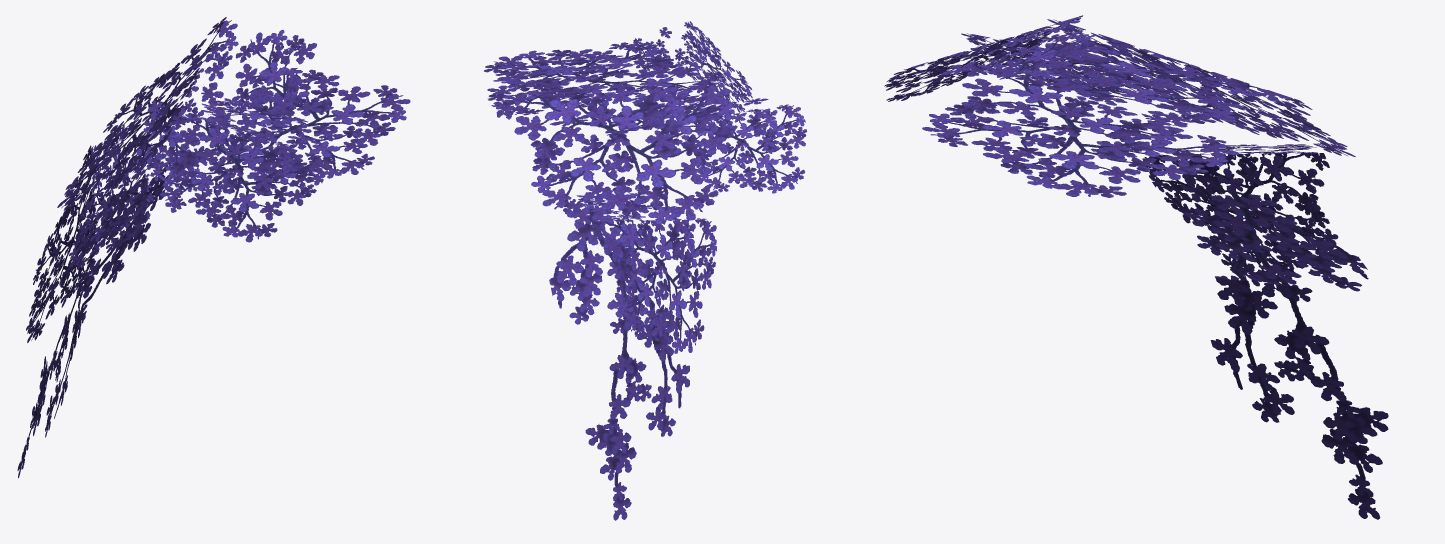
Rendered from ivy1.fbx.
3 views of the same model, side by side, from view 1: azimuth 30°, elevation 25°; view 2: azimuth 150°, elevation 25°; view 3: azimuth 270°, elevation 25° (orthographic). The views are drawn at different scales.
Parts seen in each view (by area): view 1: IVY1; view 2: IVY1; view 3: IVY1.
Part boxes in pixels (<box>): IVY1: <box>17,17,410,478</box>; IVY1: <box>484,21,806,520</box>; IVY1: <box>884,15,1388,519</box>.
Size of the model in its own units: 86.57 by 92.88 by 89.59.
